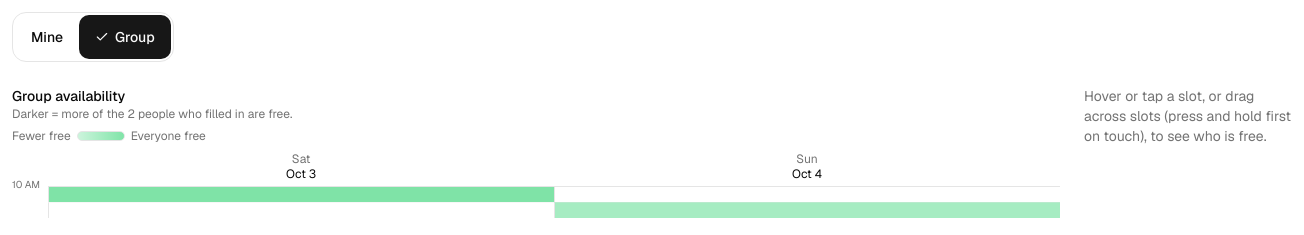
Test: AvailabilityGrid › shows who is free for a hovered or tapped group slot
Click the button "Mine".
click(47, 37)  # box [15,15,79,59]
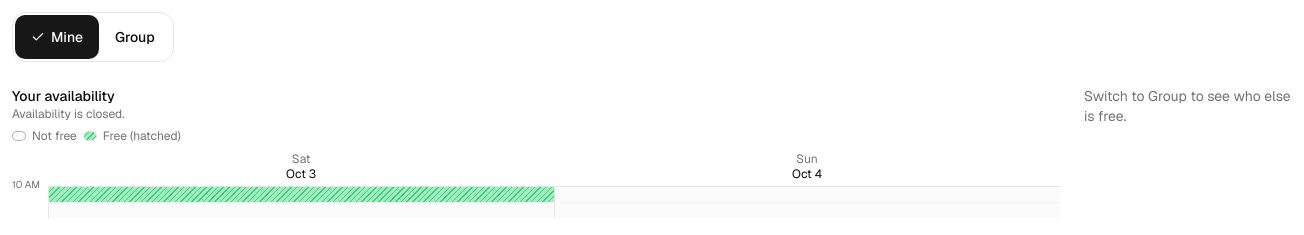
Result: the text "Availability is closed." is shown at [12,106,125,122]
Result: the button named "Sat, Oct 3, 10:00 AM" is disabled at [48,186,554,202]
Click the button "Group".
click(135, 37)  # box [99,15,171,59]
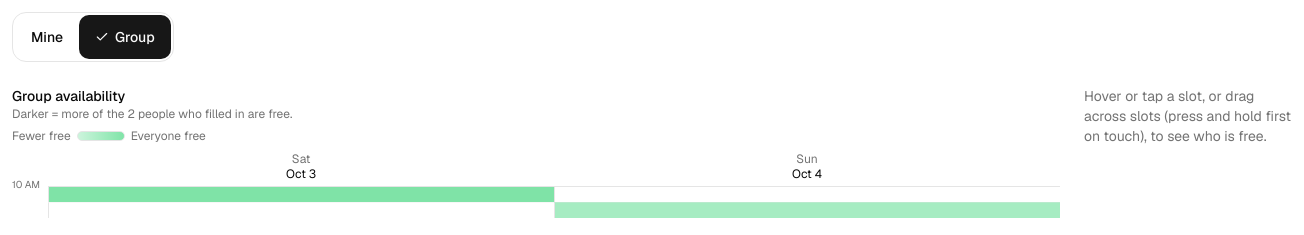
Result: the text "Hover or tap a slot, or drag across slots (press and hold first on touch), to see who is free." is shown at [1084,87,1291,145]
Hover over the button named "Sat, Oct 3, 10:00 AM: 2 of 2 free".
mouse_move(301, 194)  # box [48,186,554,202]
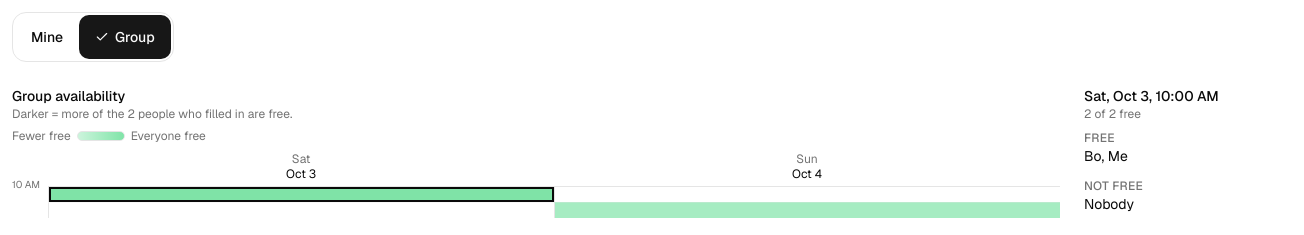
Result: the text "Bo, Me" is shown at [1084,147,1128,165]
Click the button named "Sun, Oct 4, 10:30 AM: 1 of 2 free".
click(807, 210)  # box [554,202,1060,218]
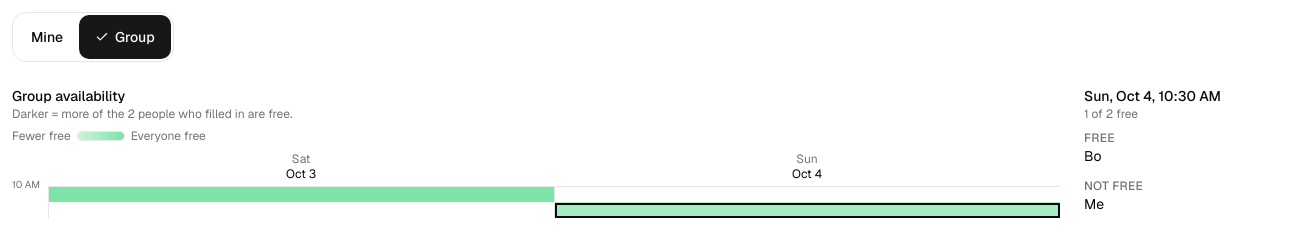
Result: the text "Bo" is shown at [1084,147,1102,165]
Result: the text "1 of 2 free" is shown at [1084,106,1138,122]
Result: the text "Me" is shown at [1084,195,1104,213]
Focus the button named "Sat, Oct 3, 10:30 AM: 0 of 2 free" at (301, 210), box [48,202,554,218]
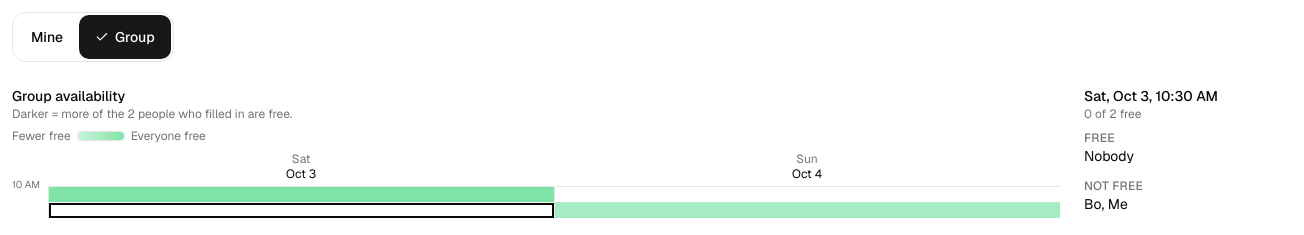
Result: the text "Nobody" is shown at [1084,147,1134,165]
